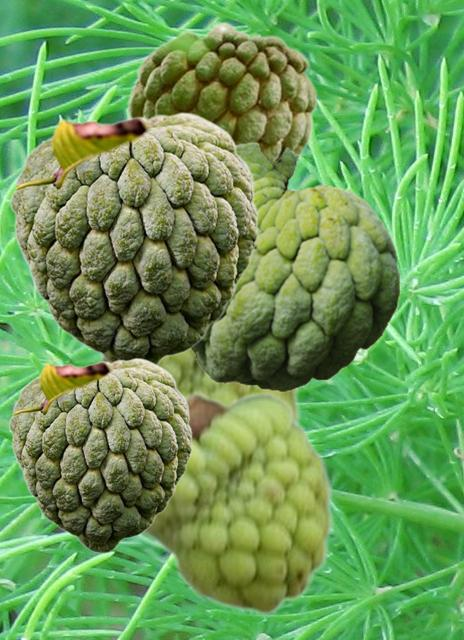atis: (9, 111, 257, 364), (189, 141, 399, 391), (140, 389, 334, 617), (8, 357, 191, 552), (125, 20, 317, 160), (94, 350, 301, 420)
